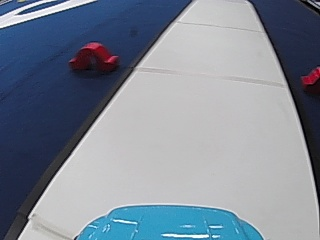bridge: (69, 39, 120, 74)
